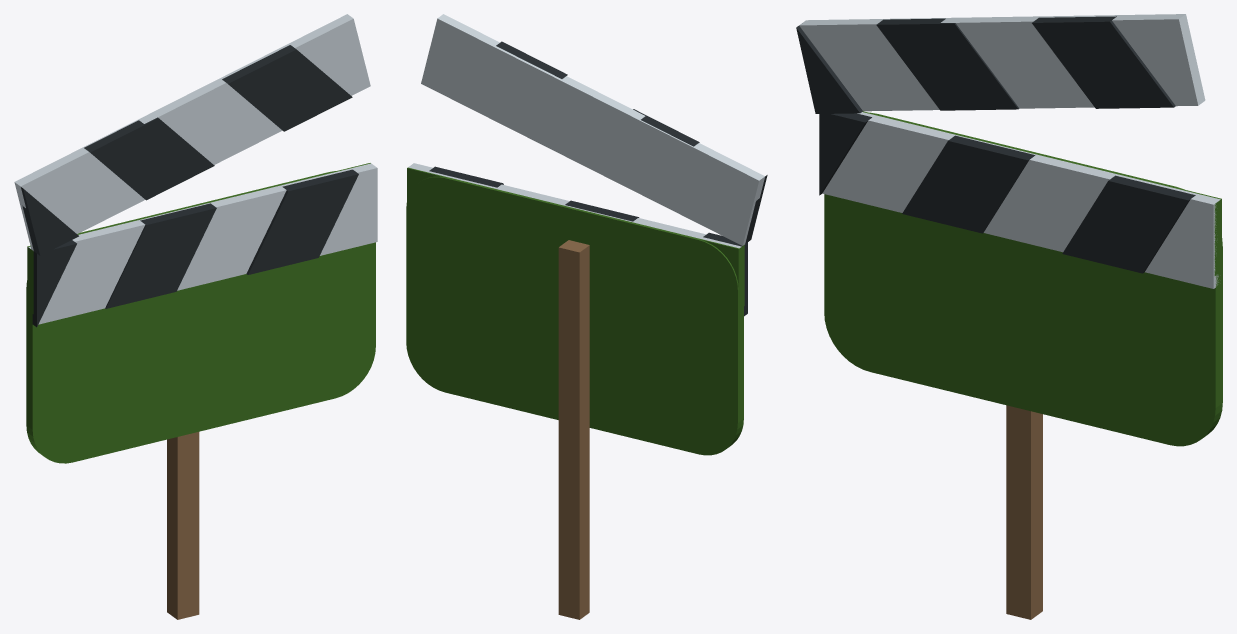
File: cinema.glb
The picture shows the model from 3 angles, left to right: view 1: azimuth 30°, elevation 25°; view 2: azimuth 150°, elevation 25°; view 3: azimuth 330°, elevation 25°; orthographic projection. The views are drawn at different scales.
Bounding box in the file's own units: 0.9914 × 1.5 × 0.121.
